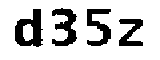3: (50, 6, 77, 51)
5: (84, 5, 114, 52)
d: (12, 7, 45, 53)
z: (117, 13, 144, 52)
